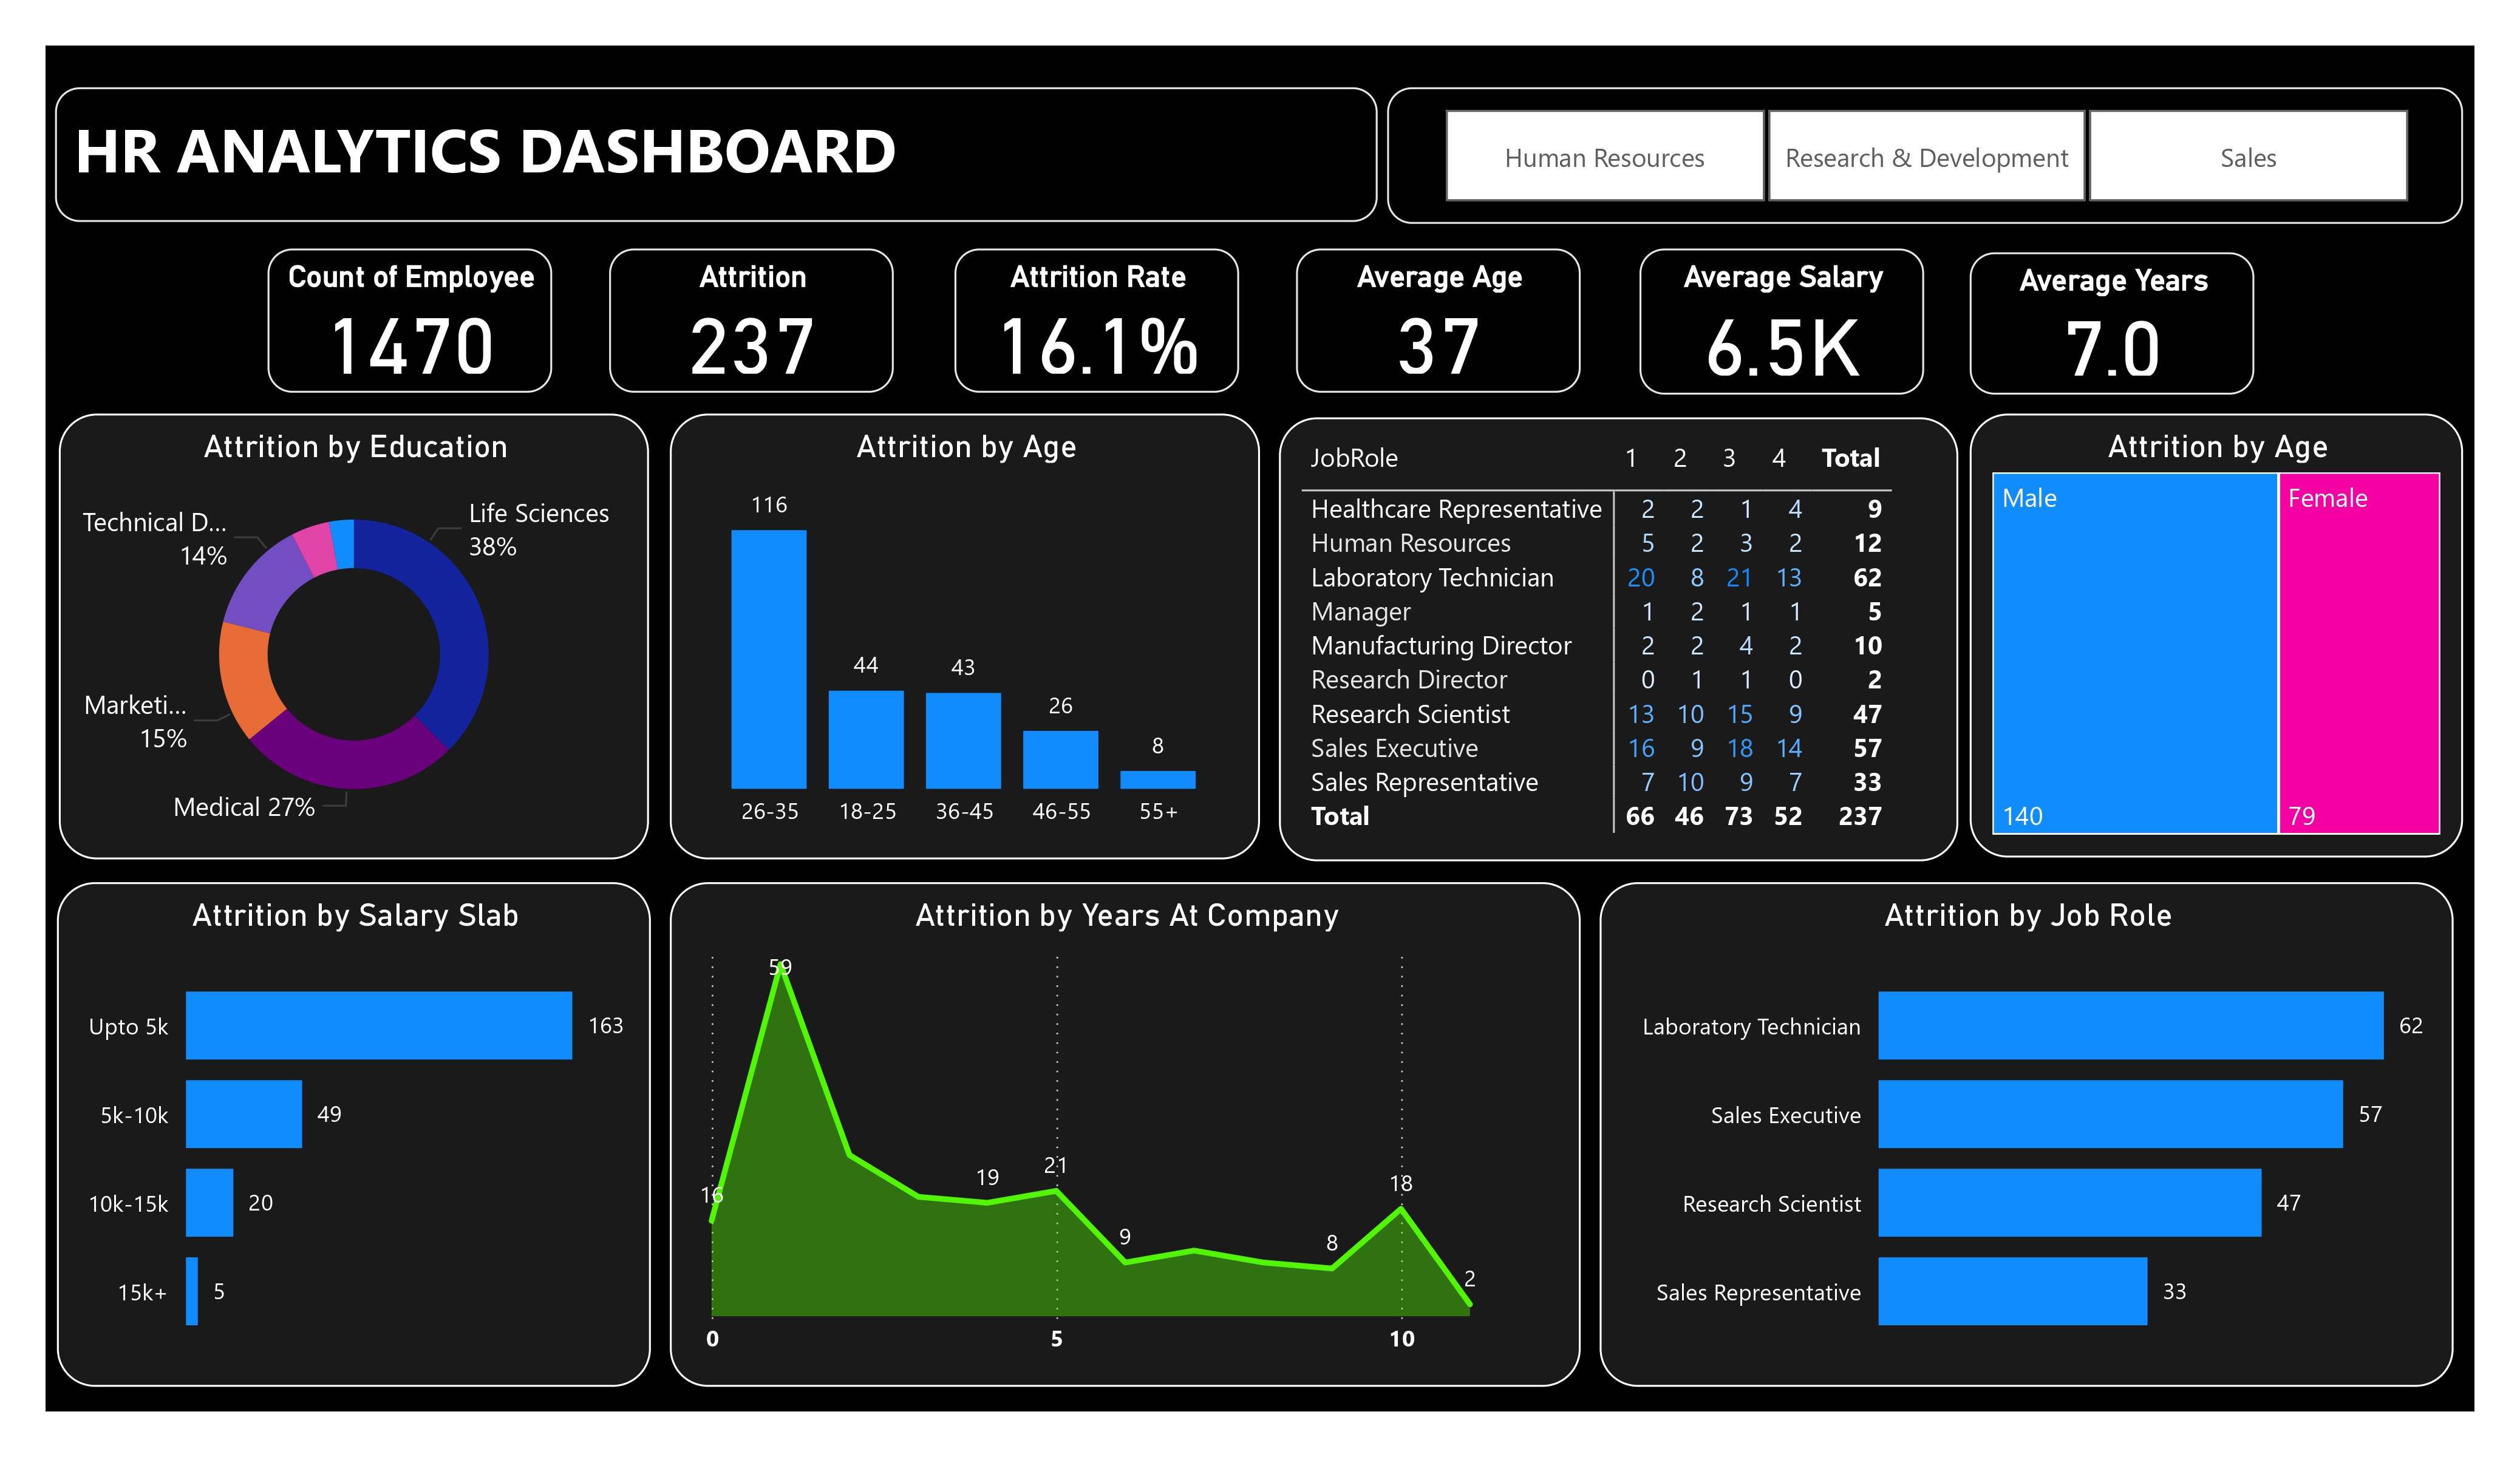

What the dashboard file says about the page in this screenshot:
{"tool":"powerbi","page":{"name":"Page 1","canvas":[1280,720],"ordinal":0},"visuals":[{"type":"card","title":"Count of Employee","fields":{"Values":["CountNonNull(HR_Analytics.EmpID)"]},"box":[117.1,107.1,150,75.7],"z":0},{"type":"card","title":"Attrition","fields":{"Values":["Sum(HR_Analytics.AttritionCount)"]},"box":[297.1,107.1,150,75.7],"z":1000},{"type":"card","title":"Attrition Rate","fields":{"Values":["HR_Analytics.Attritionrate"]},"box":[478.6,107.1,150,75.7],"z":2000},{"type":"card","title":"Average Age","fields":{"Values":["Avg(HR_Analytics.Age)"]},"box":[658.6,107.1,150,75.7],"z":3000},{"type":"card","title":"Average Salary","fields":{"Values":["Avg(HR_Analytics.MonthlyIncome)"]},"box":[840,107.1,150,77.1],"z":4000},{"type":"card","title":"Average Years","fields":{"Values":["Avg(HR_Analytics.YearsAtCompany)"]},"box":[1014.3,108.6,150,75.7],"z":5000},{"type":"donutChart","title":"Attrition by Education","fields":{"Category":["HR_Analytics.EducationField"],"Y":["Sum(HR_Analytics.AttritionCount)"]},"box":[6.7,194.4,311.1,234.4],"z":6000},{"type":"columnChart","title":"Attrition by Age","fields":{"Category":["HR_Analytics.AgeGroup"],"Y":["Sum(HR_Analytics.AttritionCount)"]},"box":[328.9,194.4,311.1,234.4],"z":7000},{"type":"pivotTable","fields":{"Rows":["HR_Analytics.JobRole"],"Values":["Sum(HR_Analytics.AttritionCount)"],"Columns":["HR_Analytics.JobSatisfaction"]},"box":[650,195.6,357.8,234.4],"z":8000},{"type":"barChart","title":"Attrition by Salary Slab","fields":{"Category":["HR_Analytics.SalarySlab"],"Y":["Sum(HR_Analytics.AttritionCount)"]},"box":[5.7,441.4,312.9,265.7],"z":9000},{"type":"barChart","title":"Attrition by Job Role","fields":{"Category":["HR_Analytics.JobRole"],"Y":["Sum(HR_Analytics.AttritionCount)"]},"box":[818.6,441.4,450,265.7],"z":10000},{"type":"areaChart","title":"Attrition by Years At Company","fields":{"Category":["HR_Analytics.YearsAtCompany"],"Y":["Sum(HR_Analytics.AttritionCount)"]},"box":[328.9,441.1,480,265.6],"z":11000},{"type":"treemap","title":"Attrition by Age","fields":{"Values":["Sum(HR_Analytics.AttritionCount)"],"Group":["HR_Analytics.Gender"]},"box":[1014.2,194.2,260,234.2],"z":12000},{"type":"slicer","fields":{"Values":["HR_Analytics.Department"]},"box":[707,22,567,72],"z":13000},{"type":"textbox","box":[5,21.7,696.7,71.7],"z":14000}]}

Visuals, with their boxes on the page's 1280x720 design canvas (x1, y1, x2, y2). These are canvas units, not pixel positions in the 2520x1457 screenshot, which may show the page scaled, cropped or inside an application window:
"Count of Employee" card: left=117, top=107, right=267, bottom=183
"Attrition" card: left=297, top=107, right=447, bottom=183
"Attrition Rate" card: left=479, top=107, right=629, bottom=183
"Average Age" card: left=659, top=107, right=809, bottom=183
"Average Salary" card: left=840, top=107, right=990, bottom=184
"Average Years" card: left=1014, top=109, right=1164, bottom=184
"Attrition by Education" donutChart: left=7, top=194, right=318, bottom=429
"Attrition by Age" columnChart: left=329, top=194, right=640, bottom=429
pivotTable - HR_Analytics.JobRole x Sum(HR_Analytics.AttritionCount): left=650, top=196, right=1008, bottom=430
"Attrition by Salary Slab" barChart: left=6, top=441, right=319, bottom=707
"Attrition by Job Role" barChart: left=819, top=441, right=1269, bottom=707
"Attrition by Years At Company" areaChart: left=329, top=441, right=809, bottom=707
"Attrition by Age" treemap: left=1014, top=194, right=1274, bottom=428
slicer - HR_Analytics.Department: left=707, top=22, right=1274, bottom=94
textbox: left=5, top=22, right=702, bottom=93
